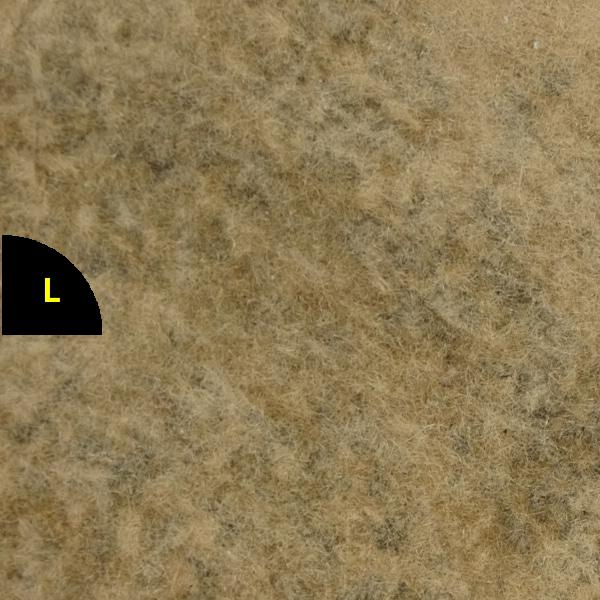QuarterCircle: (2, 235, 102, 335)
